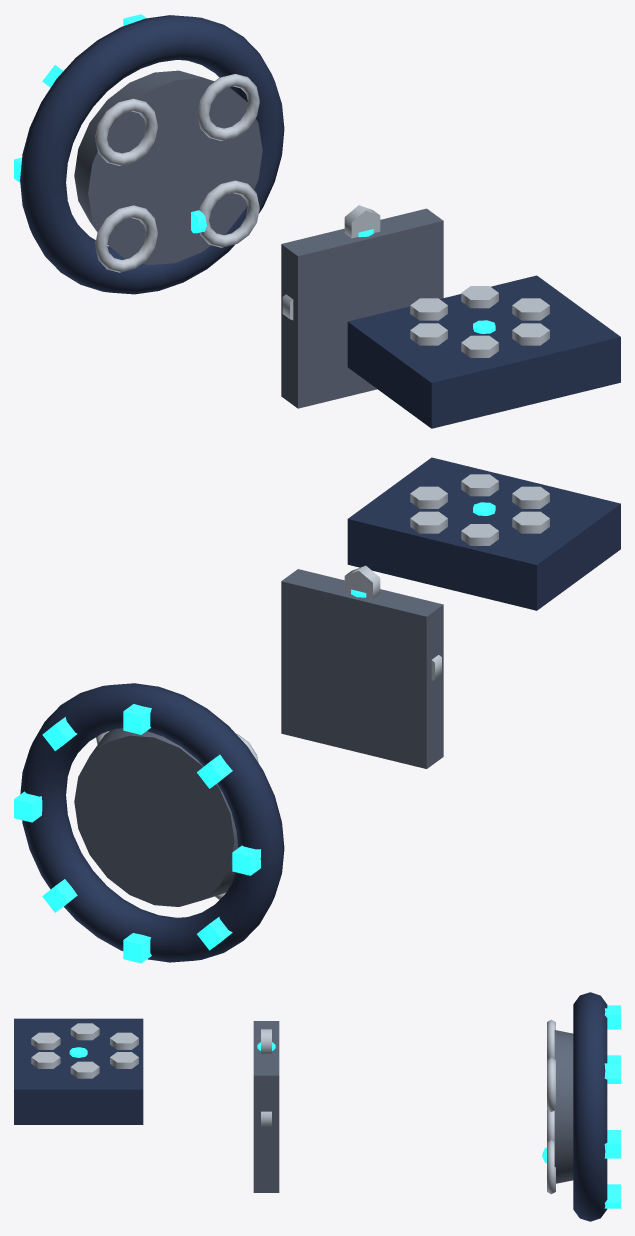
Rendered from tower_skywatch_damage_s5.glb.
3 renders of one model, top to bottom at view 1: azimuth 30°, elevation 25°; view 2: azimuth 150°, elevation 25°; view 3: azimuth 270°, elevation 25°, orthographic. The views are drawn at different scales.
Visible parts, largest first — view 1: skywatch_fuse_ring, skywatch_housing_armour, skywatch_fuse_collar, skywatch_barrel_clamp_b, skywatch_armour_bolts, skywatch_crown3, skywatch_crown2, skywatch_crown1, skywatch_crown0, skywatch_clamp_b_bolts; view 2: skywatch_fuse_ring, skywatch_barrel_clamp_b, skywatch_housing_armour, skywatch_fuse_collar, skywatch_armour_bolts, skywatch_clamp_b_bolts, skywatch_fuse_node2, skywatch_fuse_node0, skywatch_fuse_node6, skywatch_fuse_node4; view 3: skywatch_housing_armour, skywatch_fuse_ring, skywatch_barrel_clamp_b, skywatch_fuse_collar, skywatch_armour_bolts, skywatch_crown1, skywatch_clamp_b_bolts, skywatch_crown0, skywatch_fuse_node4, skywatch_fuse_node3, skywatch_fuse_node2.
Boxes of the visible parts, left/top/right/bottom form: skywatch_fuse_ring: left=20, top=15, right=284, bottom=294; skywatch_housing_armour: left=347, top=275, right=620, bottom=428; skywatch_fuse_collar: left=74, top=70, right=262, bottom=265; skywatch_barrel_clamp_b: left=281, top=208, right=443, bottom=408; skywatch_armour_bolts: left=410, top=286, right=549, bottom=357; skywatch_crown3: left=95, top=98, right=157, bottom=165; skywatch_crown2: left=95, top=205, right=157, bottom=272; skywatch_crown1: left=197, top=74, right=259, bottom=140; skywatch_crown0: left=199, top=180, right=259, bottom=247; skywatch_clamp_b_bolts: left=282, top=205, right=380, bottom=320; skywatch_fuse_ring: left=20, top=683, right=284, bottom=962; skywatch_barrel_clamp_b: left=281, top=569, right=443, bottom=768; skywatch_housing_armour: left=347, top=457, right=620, bottom=610; skywatch_fuse_collar: left=74, top=728, right=238, bottom=906; skywatch_armour_bolts: left=410, top=474, right=549, bottom=545; skywatch_clamp_b_bolts: left=344, top=565, right=441, bottom=680; skywatch_fuse_node2: left=123, top=704, right=151, bottom=734; skywatch_fuse_node0: left=232, top=845, right=260, bottom=875; skywatch_fuse_node6: left=123, top=933, right=151, bottom=963; skywatch_fuse_node4: left=14, top=791, right=42, bottom=822; skywatch_housing_armour: left=14, top=1018, right=143, bottom=1124; skywatch_fuse_ring: left=573, top=992, right=607, bottom=1221; skywatch_barrel_clamp_b: left=253, top=1021, right=279, bottom=1192; skywatch_fuse_collar: left=554, top=1030, right=573, bottom=1183; skywatch_armour_bolts: left=31, top=1023, right=138, bottom=1078; skywatch_crown1: left=547, top=1058, right=555, bottom=1111; skywatch_clamp_b_bolts: left=261, top=1029, right=271, bottom=1127; skywatch_crown0: left=547, top=1140, right=555, bottom=1194; skywatch_fuse_node4: left=604, top=1137, right=620, bottom=1158; skywatch_fuse_node3: left=604, top=1063, right=620, bottom=1083; skywatch_fuse_node2: left=604, top=1008, right=620, bottom=1029.
Size of the model in its own units: 0.71 by 0.71 by 1.88.
